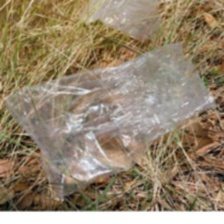plastic_bag: (1, 38, 218, 209), (79, 0, 163, 47)
